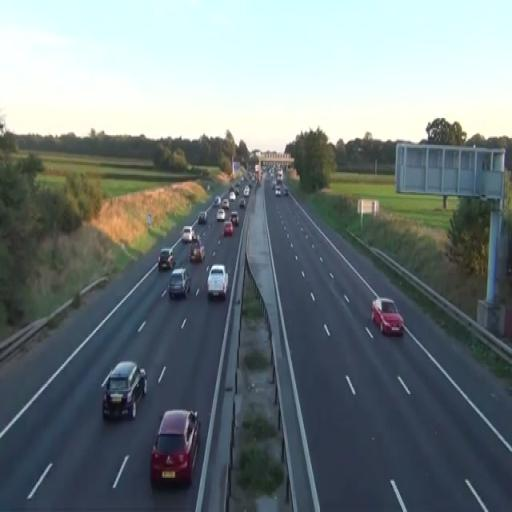Car: (150, 410, 201, 489), (102, 360, 148, 422), (370, 296, 404, 336), (206, 264, 228, 301), (168, 267, 191, 299), (158, 248, 175, 270), (190, 238, 204, 262), (182, 226, 195, 242), (223, 221, 234, 237), (230, 211, 240, 226), (216, 208, 226, 222)
